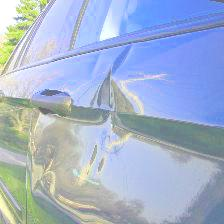door_dent: (36, 41, 204, 213)
